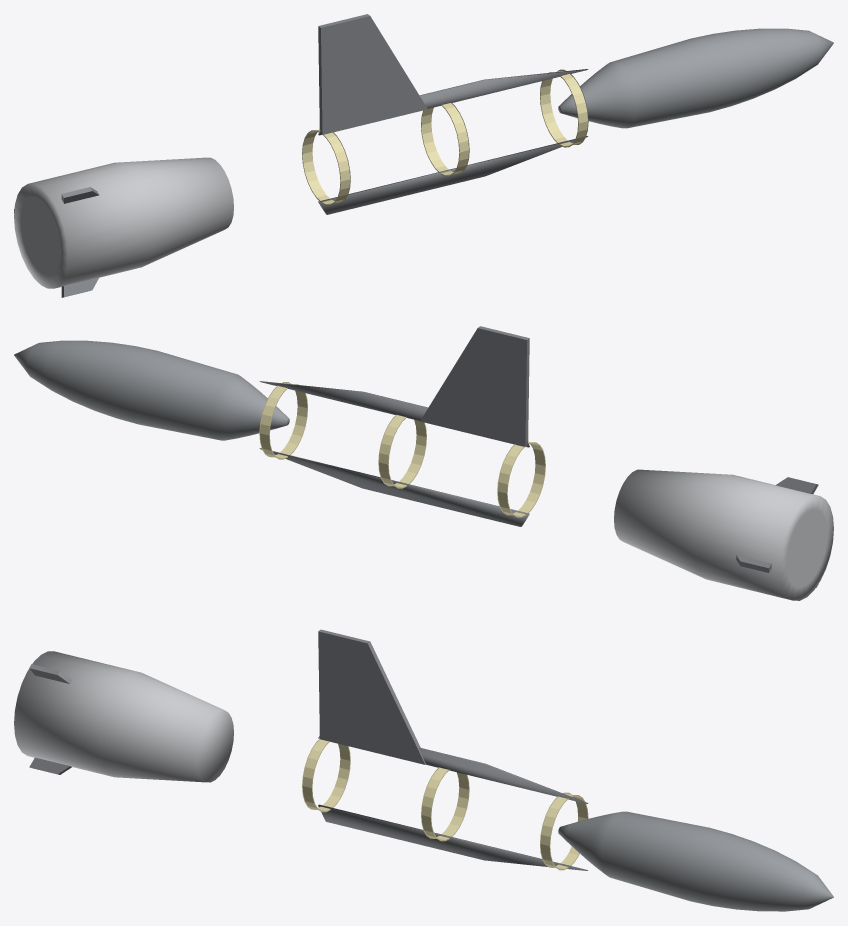
File: US_LAM_Tomahawk_BlockIV_LOD1.fbx
The picture shows the model from 3 angles, top to bottom: view 1: azimuth 30°, elevation 25°; view 2: azimuth 150°, elevation 25°; view 3: azimuth 330°, elevation 25°; orthographic projection.
Parts seen in each view (by area): view 1: WPN_US_LAM_Tomahawk_BlockIV_LOD1_Tail, WPN_US_LAM_Tomahawk_BlockIV_LOD1_Body, WPN_US_LAM_Tomahawk_BlockIV_LOD1_Wings, WPN_US_LAM_Tomahawk_BlockIV_LOD1_Detail, WPN_US_LAM_Tomahawk_BlockIV_LOD1_Marking, WPN_US_LAM_Tomahawk_BlockIV_LOD1_Fins; view 2: WPN_US_LAM_Tomahawk_BlockIV_LOD1_Tail, WPN_US_LAM_Tomahawk_BlockIV_LOD1_Body, WPN_US_LAM_Tomahawk_BlockIV_LOD1_Wings, WPN_US_LAM_Tomahawk_BlockIV_LOD1_Detail, WPN_US_LAM_Tomahawk_BlockIV_LOD1_Marking, WPN_US_LAM_Tomahawk_BlockIV_LOD1_Fins; view 3: WPN_US_LAM_Tomahawk_BlockIV_LOD1_Tail, WPN_US_LAM_Tomahawk_BlockIV_LOD1_Body, WPN_US_LAM_Tomahawk_BlockIV_LOD1_Wings, WPN_US_LAM_Tomahawk_BlockIV_LOD1_Detail, WPN_US_LAM_Tomahawk_BlockIV_LOD1_Marking, WPN_US_LAM_Tomahawk_BlockIV_LOD1_Fins.
Boxes of the visible parts, box(x1,y1,x2,y2) form: WPN_US_LAM_Tomahawk_BlockIV_LOD1_Tail: box(14, 157, 233, 288); WPN_US_LAM_Tomahawk_BlockIV_LOD1_Body: box(558, 28, 833, 128); WPN_US_LAM_Tomahawk_BlockIV_LOD1_Wings: box(318, 14, 427, 134); WPN_US_LAM_Tomahawk_BlockIV_LOD1_Detail: box(318, 69, 588, 214); WPN_US_LAM_Tomahawk_BlockIV_LOD1_Marking: box(302, 69, 588, 205); WPN_US_LAM_Tomahawk_BlockIV_LOD1_Fins: box(14, 187, 99, 297); WPN_US_LAM_Tomahawk_BlockIV_LOD1_Tail: box(614, 469, 833, 600); WPN_US_LAM_Tomahawk_BlockIV_LOD1_Body: box(14, 340, 289, 440); WPN_US_LAM_Tomahawk_BlockIV_LOD1_Wings: box(420, 326, 529, 446); WPN_US_LAM_Tomahawk_BlockIV_LOD1_Detail: box(259, 381, 529, 526); WPN_US_LAM_Tomahawk_BlockIV_LOD1_Marking: box(259, 382, 545, 517); WPN_US_LAM_Tomahawk_BlockIV_LOD1_Fins: box(736, 477, 818, 587); WPN_US_LAM_Tomahawk_BlockIV_LOD1_Tail: box(14, 651, 233, 782); WPN_US_LAM_Tomahawk_BlockIV_LOD1_Body: box(558, 811, 833, 911); WPN_US_LAM_Tomahawk_BlockIV_LOD1_Wings: box(318, 629, 425, 764); WPN_US_LAM_Tomahawk_BlockIV_LOD1_Detail: box(318, 736, 588, 870); WPN_US_LAM_Tomahawk_BlockIV_LOD1_Marking: box(302, 739, 588, 870); WPN_US_LAM_Tomahawk_BlockIV_LOD1_Fins: box(29, 664, 72, 774).
Bounding box in the file's own units: 6.25 × 0.8112 × 1.46.
